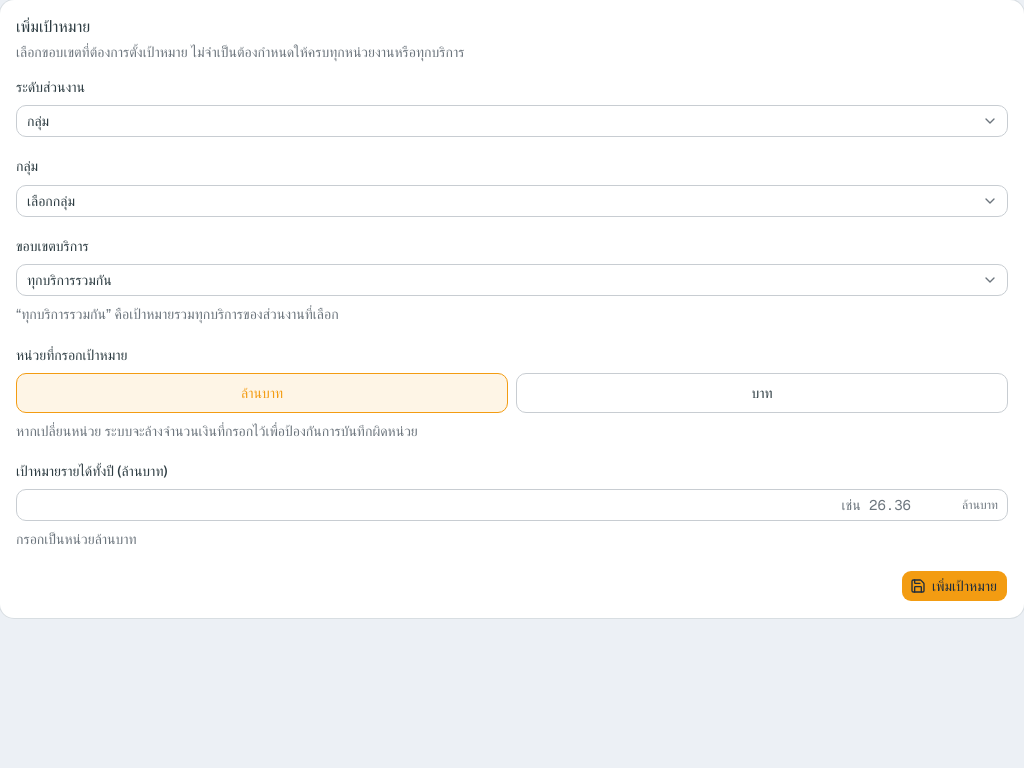
Scenario: RevenueTargetForm › shows only the fields required by the selected organization and service scope
Expected: the dropdown labelled "กลุ่ม" is shown, [16,184,1008,216]
Expected: the field labelled "ฝ่าย" is not shown
Select "ส่วนงาน" in the dropdown labelled "ระดับส่วนงาน" at coordinates (512, 121), box [16,105,1008,137]
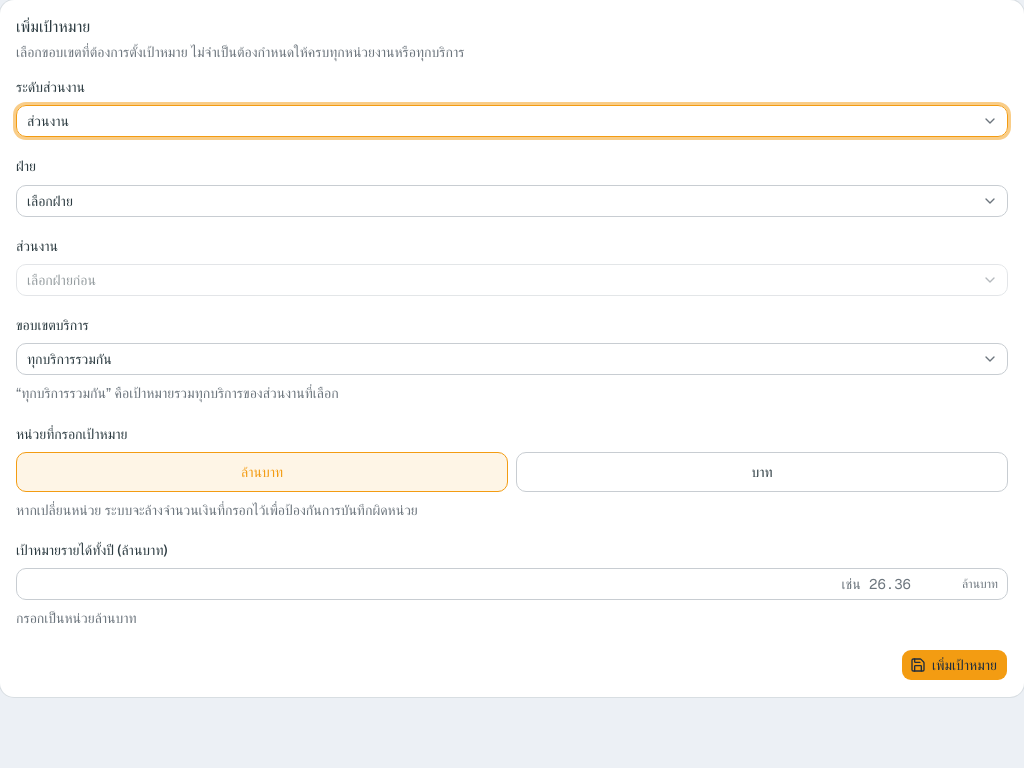
Expected: the dropdown labelled "ฝ่าย" is shown
Expected: the dropdown labelled "ส่วนงาน" is disabled, [16,264,1008,296]
Select "อป.2" in the dropdown labelled "ฝ่าย" at coordinates (512, 200), box [16,184,1008,216]
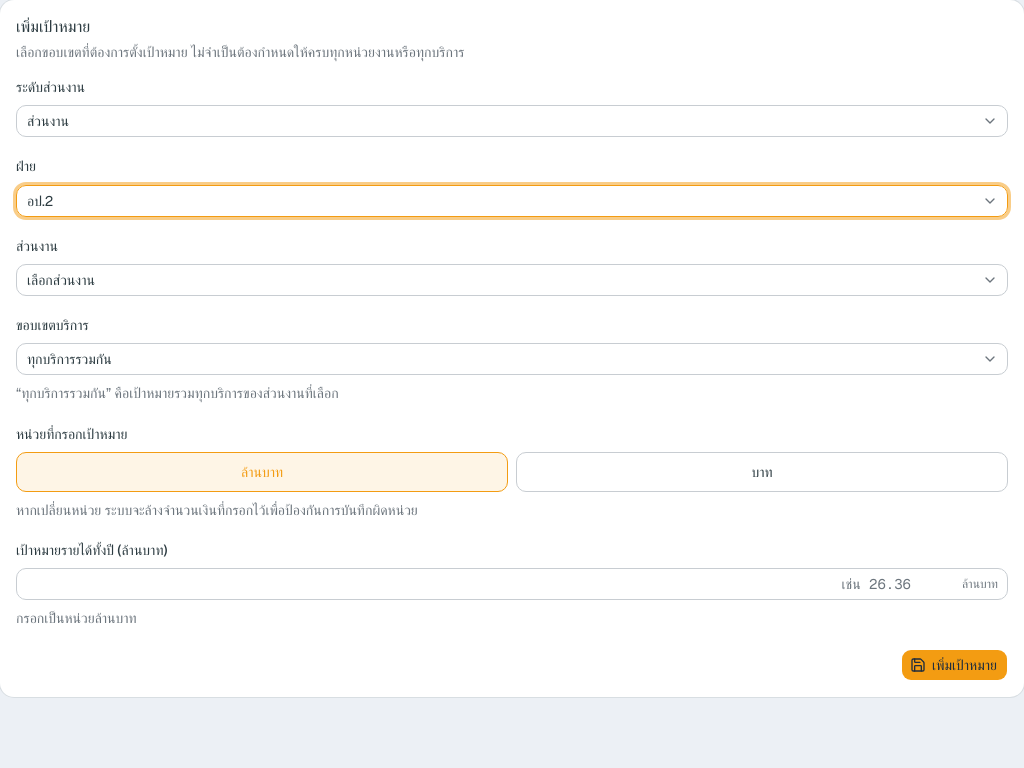
Expected: the dropdown labelled "ส่วนงาน" is enabled, [16,264,1008,296]
Select "กลุ่มบริการ" in the dropdown labelled "ขอบเขตบริการ" at coordinates (512, 359), box [16,343,1008,375]
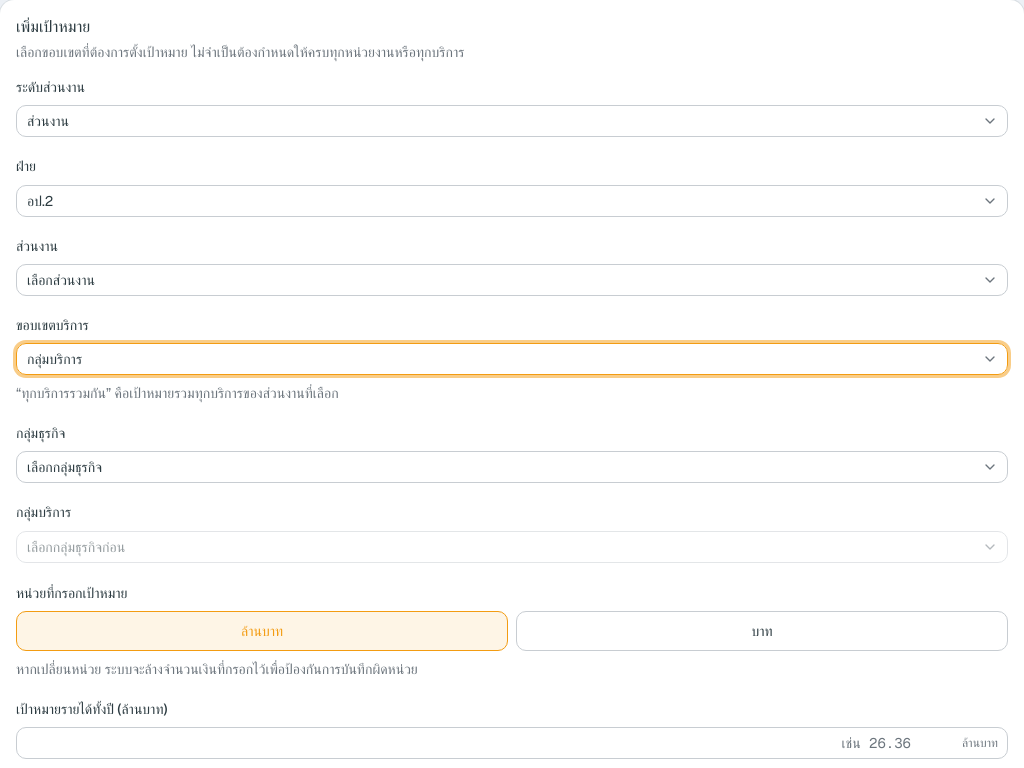
Expected: the dropdown labelled "กลุ่มธุรกิจ" is shown
Expected: the dropdown labelled "กลุ่มบริการ" is disabled, [16,530,1008,562]
Select "Digital" in the dropdown labelled "กลุ่มธุรกิจ" at coordinates (512, 467), box [16,451,1008,483]
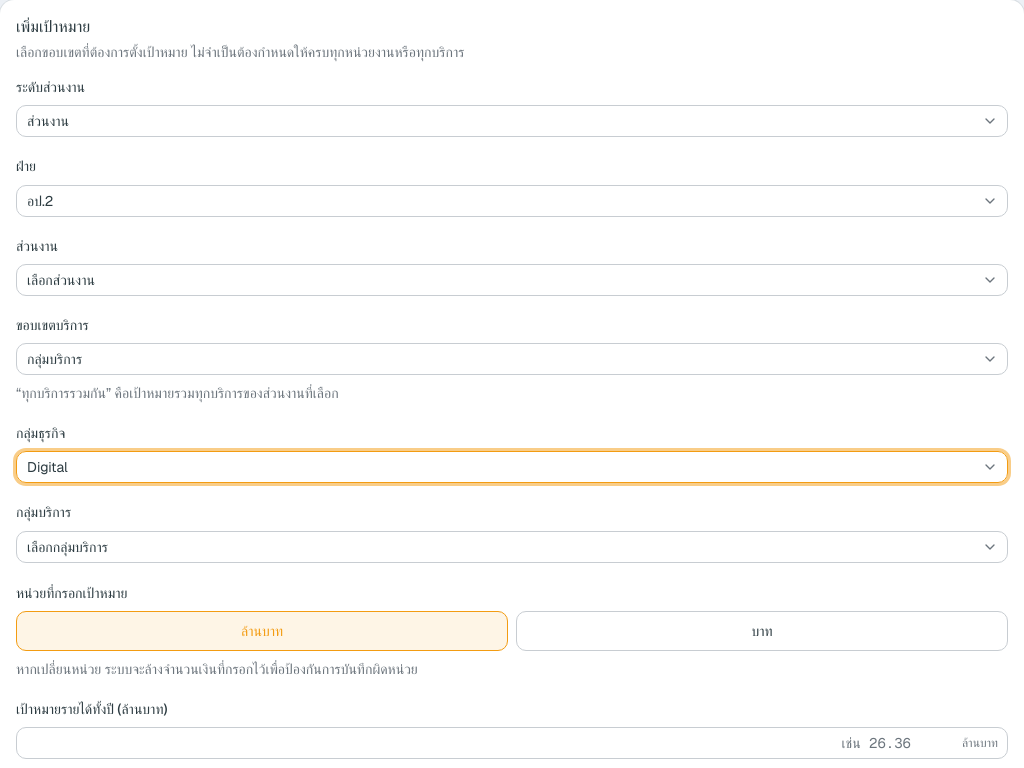
Expected: the dropdown labelled "กลุ่มบริการ" is enabled, [16,530,1008,562]
